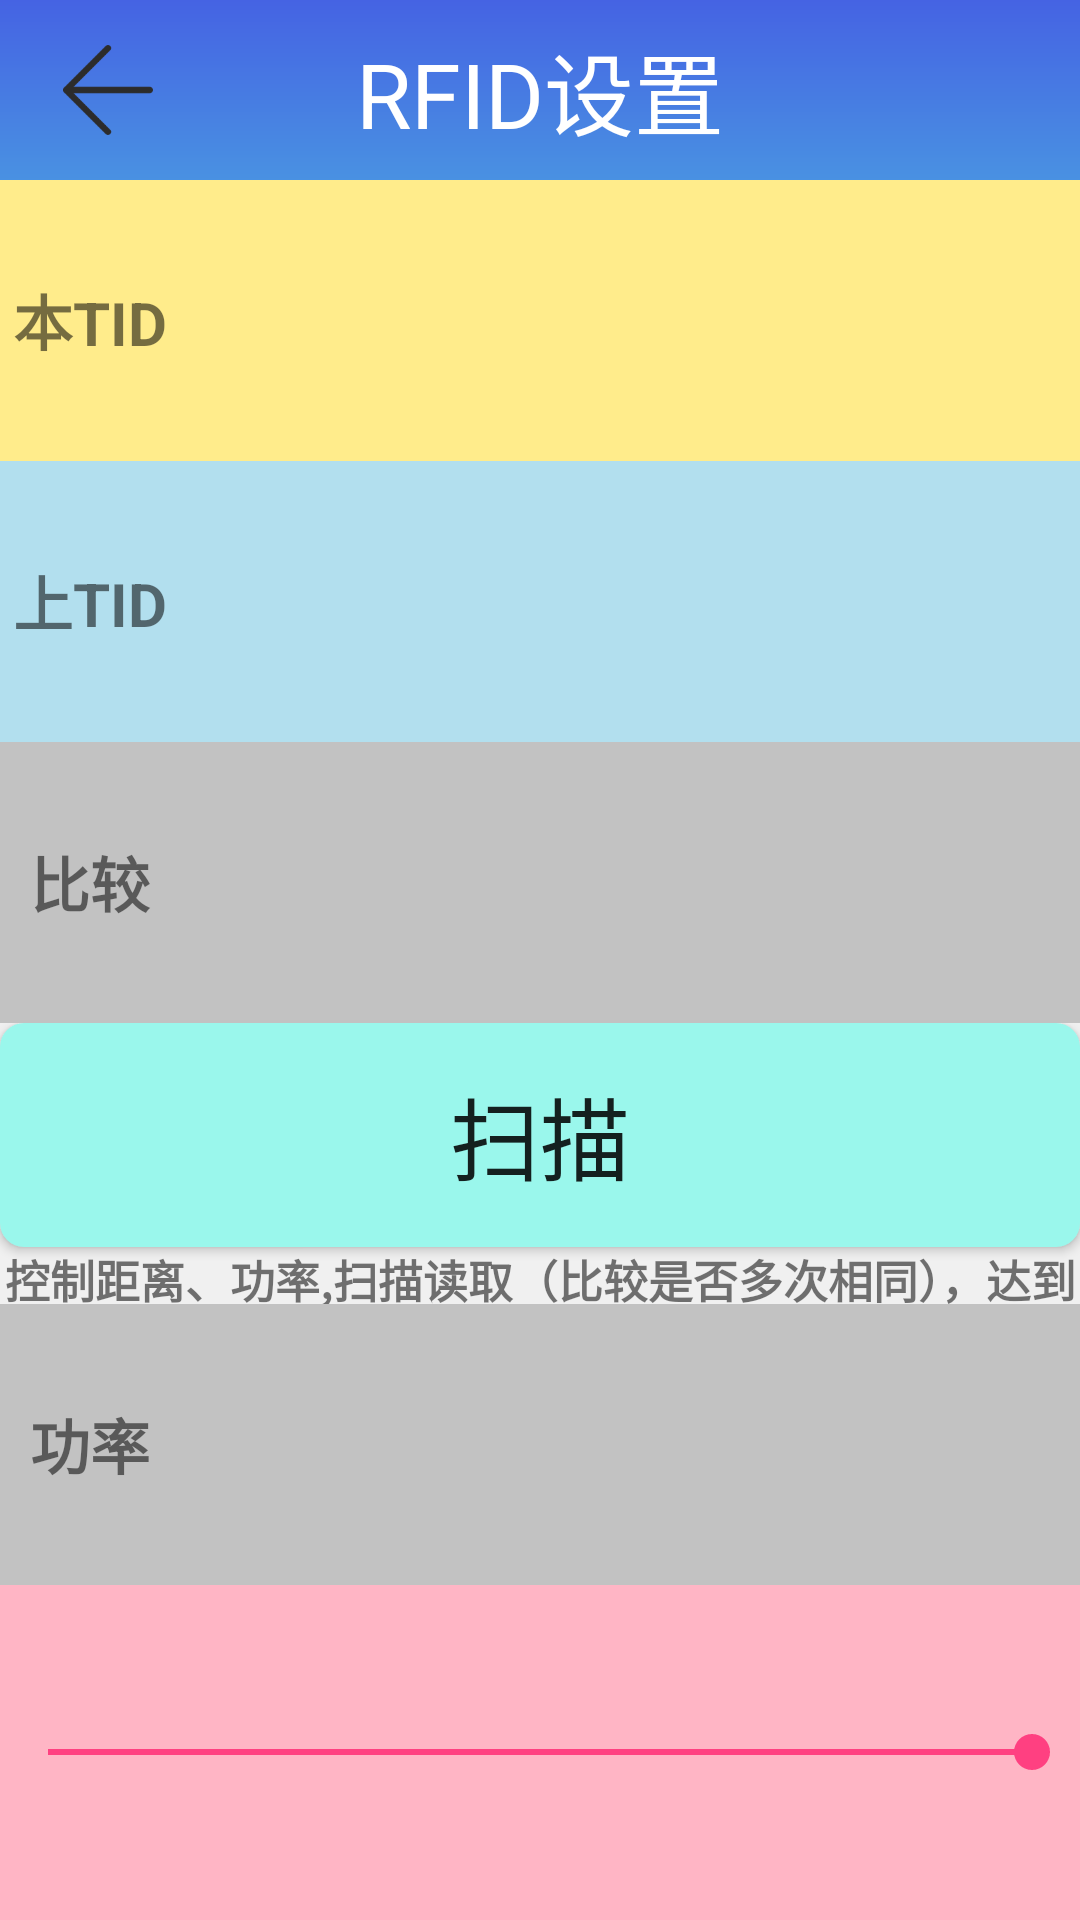

Where to tap for icons on this 1080 × 1920 app screen, as (x=x, y=y):
back: (x=108, y=90)
